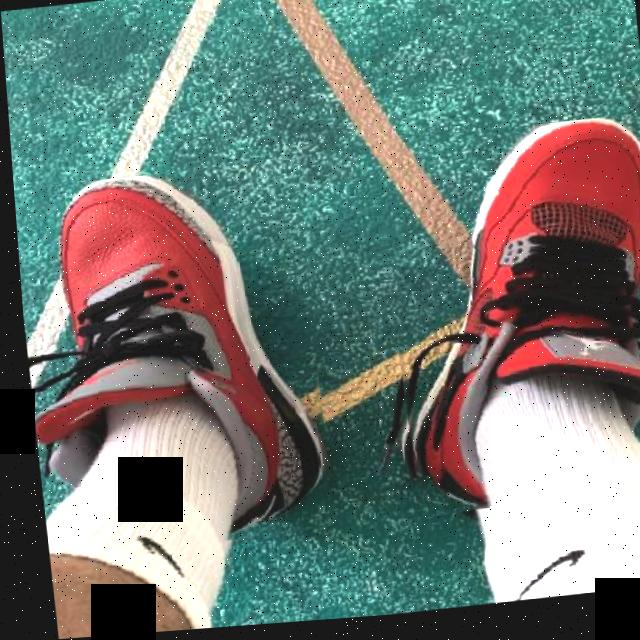shoe: (10, 162, 329, 566), (364, 122, 640, 525)
